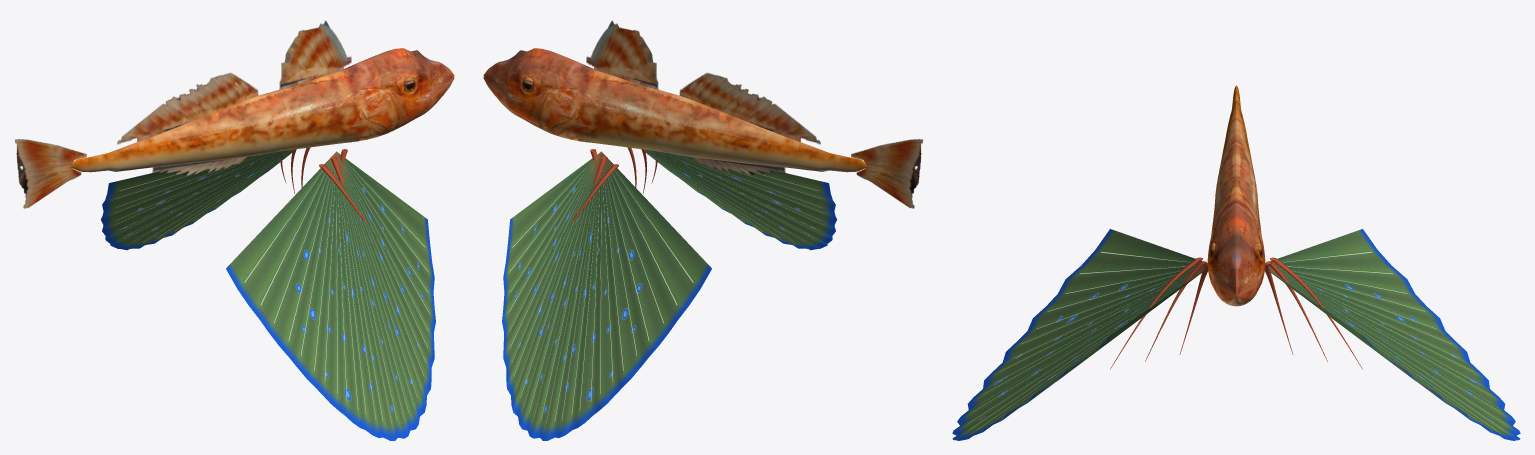
File: houbou.glb
3 renders of one model, left to right at view 1: azimuth 30°, elevation 25°; view 2: azimuth 150°, elevation 25°; view 3: azimuth 270°, elevation 25°, orthographic. The views are drawn at different scales.
Parts seen in each view (by area): view 1: houbou; view 2: houbou; view 3: houbou.
Part boxes in pixels (x1,y1,x2,y2): houbou: [15, 20, 454, 440]; houbou: [483, 20, 922, 440]; houbou: [952, 85, 1520, 440].
Bounding box in the file's own units: 0.3005 × 0.2019 × 0.3108.
Materials: 1 (1 with a texture image).
